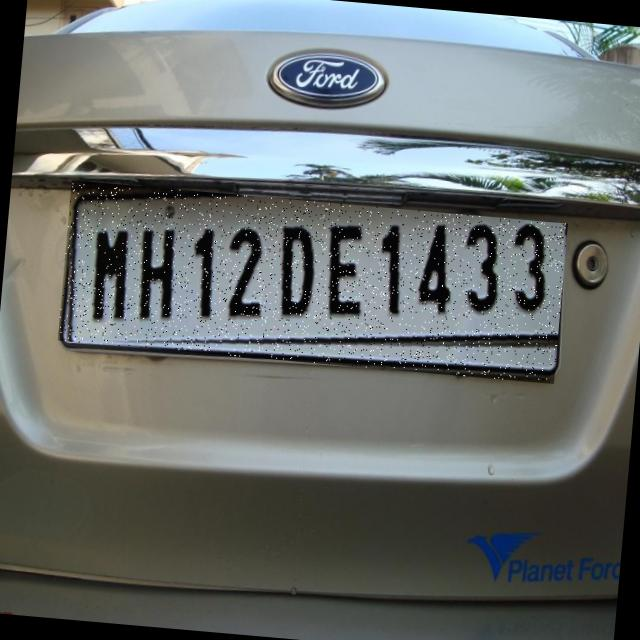Plate: (59, 181, 569, 385)
